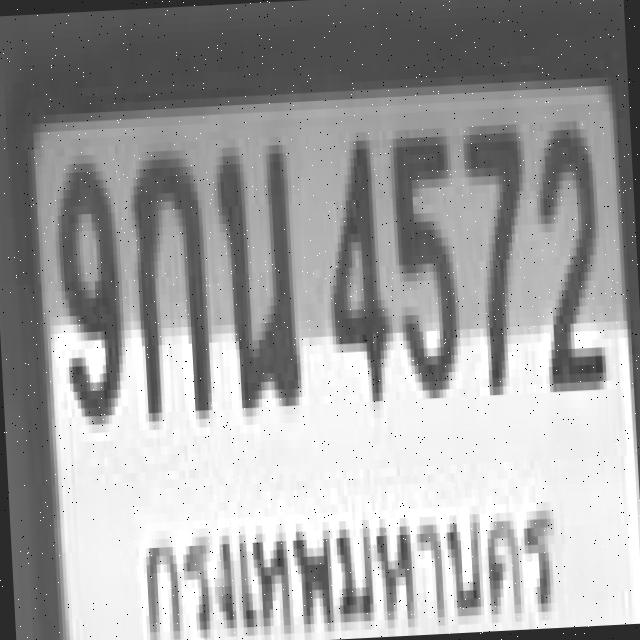10GorGai: (125, 141, 212, 414)
2: (532, 112, 604, 384)
34NorNu: (211, 132, 299, 406)
4: (318, 132, 389, 396)
5: (388, 124, 459, 388)
7: (458, 112, 530, 384)
9: (51, 154, 126, 418)
Bangkok: (126, 490, 568, 640)
